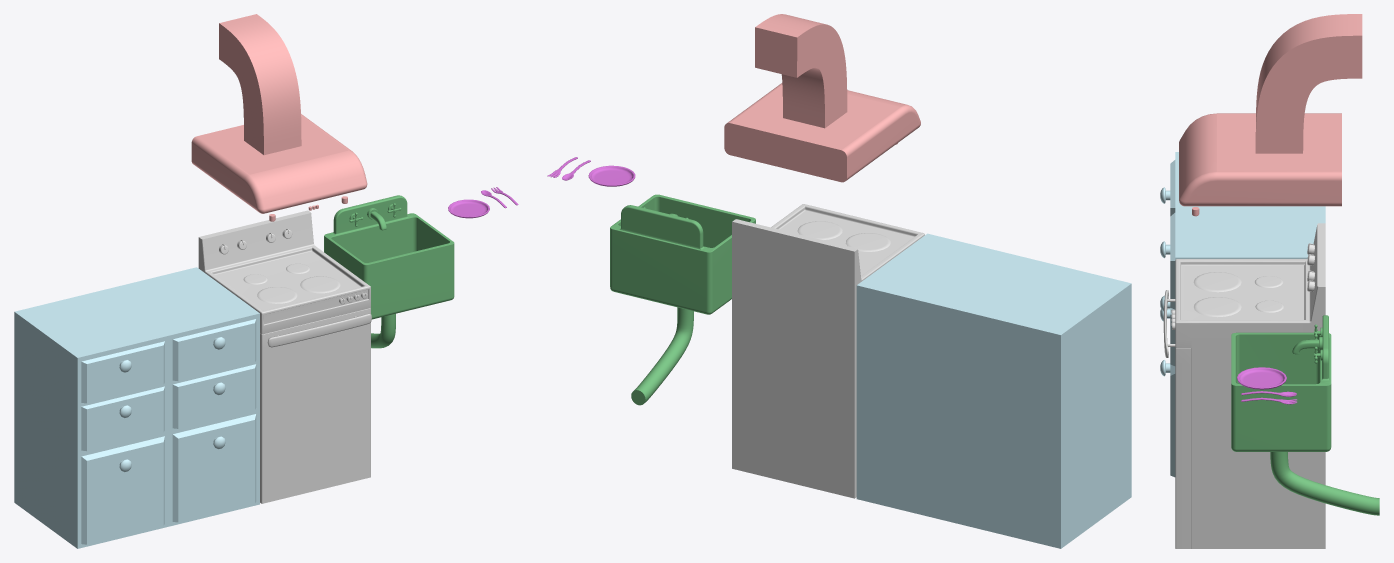
Rendered from Kitchen.fbx.
3 views of the same model, side by side, from view 1: azimuth 30°, elevation 25°; view 2: azimuth 150°, elevation 25°; view 3: azimuth 270°, elevation 25° (orthographic). The views are drawn at different scales.
Parts seen in each view (by area): view 1: Counter_Main, Stove_Base, Rangehood_Main, Sink_Base, Drawer_2, Drawer_1, Drawer_4, Drawer_3, Drawer_6, Drawer_5, Stove, Oven_Handle (+2 smaller); view 2: Counter_Main, Stove_Base, Rangehood_Main, Sink_Base, Sink_Pipe, Stove, Plate; view 3: Stove_Base, Rangehood_Main, Sink_Base, Counter_Main, Stove, Sink_Pipe, Plate, Drawer_2, Drawer_6, Drawer_5.
Boxes of the visible parts, <box> form: Counter_Main: <box>14,267,259,548</box>; Stove_Base: <box>198,210,370,503</box>; Rangehood_Main: <box>191,14,367,213</box>; Sink_Base: <box>324,195,454,319</box>; Drawer_2: <box>172,414,256,522</box>; Drawer_1: <box>81,436,164,544</box>; Drawer_4: <box>172,364,256,428</box>; Drawer_3: <box>81,386,164,451</box>; Drawer_6: <box>172,319,256,381</box>; Drawer_5: <box>81,341,164,403</box>; Stove: <box>219,228,367,304</box>; Oven_Handle: <box>267,313,371,347</box>; Counter_Main: <box>856,233,1131,548</box>; Stove_Base: <box>732,204,924,498</box>; Rangehood_Main: <box>724,14,920,182</box>; Sink_Base: <box>610,194,755,314</box>; Sink_Pipe: <box>631,307,693,405</box>; Stove: <box>797,221,890,251</box>; Plate: <box>588,165,635,186</box>; Stove_Base: <box>1175,223,1325,548</box>; Rangehood_Main: <box>1179,14,1362,206</box>; Sink_Base: <box>1231,315,1331,451</box>; Counter_Main: <box>1175,152,1325,259</box>; Stove: <box>1171,243,1314,329</box>; Sink_Pipe: <box>1270,452,1379,515</box>; Plate: <box>1237,367,1286,389</box>; Drawer_2: <box>1170,364,1175,477</box>; Drawer_6: <box>1170,213,1175,309</box>; Drawer_5: <box>1170,160,1175,216</box>.
Bounding box in the file's own units: 2.58 × 2.17 × 0.8775.
